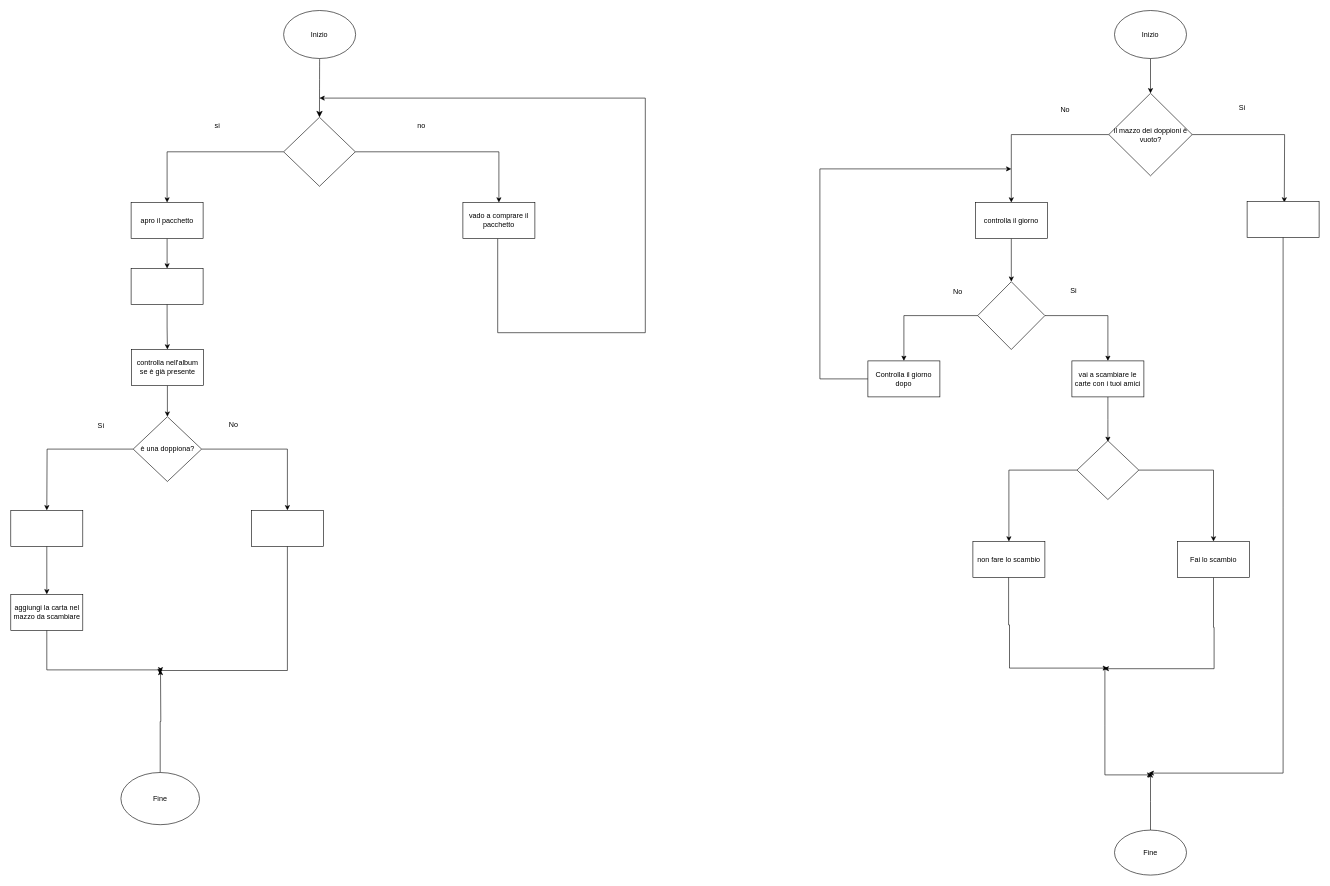
This 1330x886 diagram has some shape labels left out. Here are the shapes that lost their labels. From the top down, the centre of each, then its label:
At (x=319, y=151): "il pacchetto c'è?".
At (x=1282, y=219): "aspetta di trovare doppioni".
At (x=166, y=286): "sfilo le carte una alla volta".
At (x=1011, y=315): "è sabato?".
At (x=1107, y=470): "Conviene fare lo scambio?".
At (x=46, y=528): "apri il mazzo delle carte da scambiare".
At (x=287, y=528): "attacca la carta nell'album".
